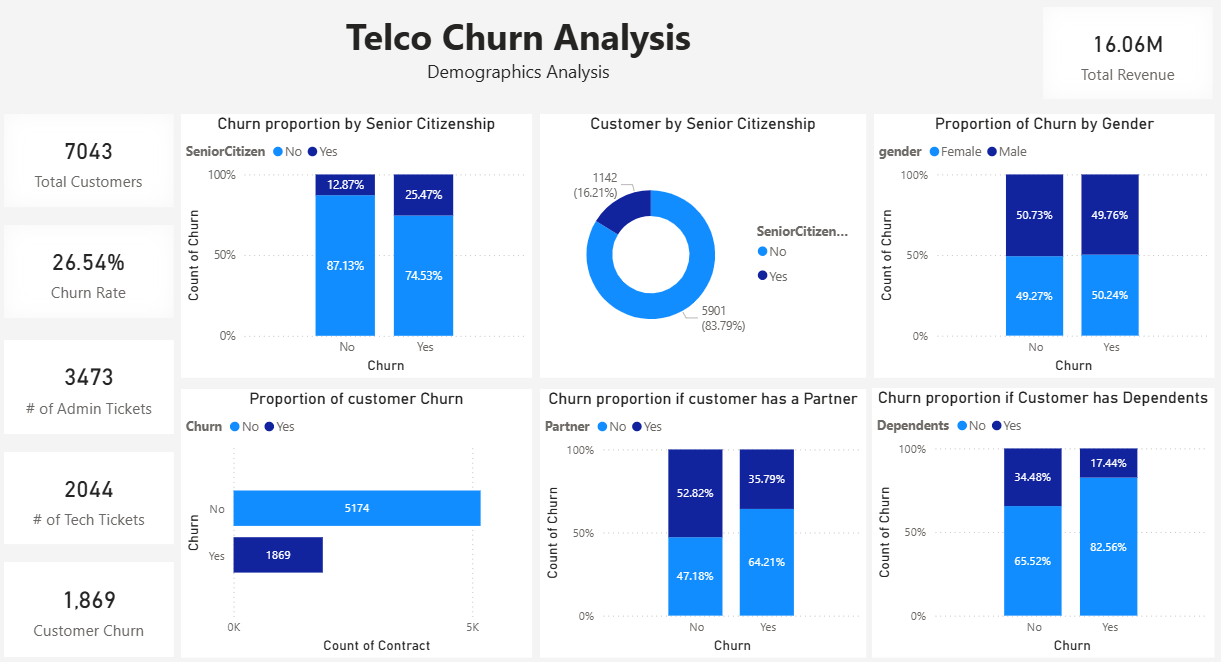

This screenshot's page, from the dashboard's own definition file:
{"tool":"powerbi","page":{"name":"Demographics Analysis","canvas":[1280,720],"ordinal":0},"visuals":[{"type":"card","title":"Total Customers","fields":{"Values":["Telco Churn Dataset.Total Customers"]},"box":[9,124.4,177,97.5],"z":0},{"type":"card","title":"Churn Rate","fields":{"Values":["Telco Churn Dataset.Churn Rate"]},"box":[9.2,239.9,177,97.5],"z":1000},{"type":"card","title":"Total Revenue","fields":{"Values":["Telco Churn Dataset.Total Revenue"]},"box":[1092.4,12.7,177.4,96.3],"z":2000},{"type":"donutChart","title":"Customer by Senior Citizenship","fields":{"Y":["CountNonNull(Telco Churn Dataset.Customer ID)"],"Category":["Telco Churn Dataset.SeniorCitizenWord"]},"box":[568.5,124.2,339.9,274.5],"z":3000},{"type":"barChart","title":"Proportion of customer Churn","fields":{"Y":["CountNonNull(Telco Churn Dataset.Contract)"],"Category":["Telco Churn Dataset.Churn"],"Series":["Telco Churn Dataset.Churn"]},"box":[194,410.2,365.6,279.7],"z":4000},{"type":"textbox","box":[8.9,12.7,1072.2,96.3],"z":5000},{"type":"card","fields":{"Values":["Telco Churn Dataset.# of Tech Tickets"]},"box":[8.9,476.5,177.4,96.3],"z":6000},{"type":"card","fields":{"Values":["Sum(Telco Churn Dataset.Churn Binary)"]},"box":[9,591.4,177,98.8],"z":7000},{"type":"hundredPercentStackedColumnChart","title":"Churn proportion by Senior Citizenship","fields":{"Category":["Telco Churn Dataset.Churn"],"Y":["CountNonNull(Telco Churn Dataset.Churn)"],"Series":["Telco Churn Dataset.SeniorCitizenWord"]},"box":[194,124.2,365.6,274.5],"z":8000},{"type":"hundredPercentStackedColumnChart","title":"Churn proportion if customer has a Partner","fields":{"Category":["Telco Churn Dataset.Churn"],"Y":["CountNonNull(Telco Churn Dataset.Churn)"],"Series":["Telco Churn Dataset.Partner"]},"box":[568.5,410.2,339.9,279.7],"z":9000},{"type":"hundredPercentStackedColumnChart","title":"Proportion of Churn by Gender","fields":{"Category":["Telco Churn Dataset.Churn"],"Y":["CountNonNull(Telco Churn Dataset.Churn)"],"Series":["Telco Churn Dataset.gender"]},"box":[915.9,124.4,355.3,274.5],"z":10000},{"type":"hundredPercentStackedColumnChart","title":"Churn proportion if Customer has Dependents","fields":{"Series":["Telco Churn Dataset.Dependents"],"Y":["CountNonNull(Telco Churn Dataset.Churn)"],"Category":["Telco Churn Dataset.Churn"]},"box":[914.7,409.2,356.6,280.9],"z":11000},{"type":"card","fields":{"Values":["Telco Churn Dataset.# of Admin Tickets"]},"box":[8.9,359.9,177.4,97.6],"z":12000}]}

Visuals, with their boxes on the page's 1280x720 design canvas (x1, y1, x2, y2). These are canvas units, not pixel positions in the 1221x662 screenshot, which may show the page scaled, cropped or inside an application window:
"Total Customers" card: 9 124 186 222
"Churn Rate" card: 9 240 186 337
"Total Revenue" card: 1092 13 1270 109
"Customer by Senior Citizenship" donutChart: 568 124 908 399
"Proportion of customer Churn" barChart: 194 410 560 690
textbox: 9 13 1081 109
card - Telco Churn Dataset.# of Tech Tickets: 9 476 186 573
card - Sum(Telco Churn Dataset.Churn Binary): 9 591 186 690
"Churn proportion by Senior Citizenship" hundredPercentStackedColumnChart: 194 124 560 399
"Churn proportion if customer has a Partner" hundredPercentStackedColumnChart: 568 410 908 690
"Proportion of Churn by Gender" hundredPercentStackedColumnChart: 916 124 1271 399
"Churn proportion if Customer has Dependents" hundredPercentStackedColumnChart: 915 409 1271 690
card - Telco Churn Dataset.# of Admin Tickets: 9 360 186 458
